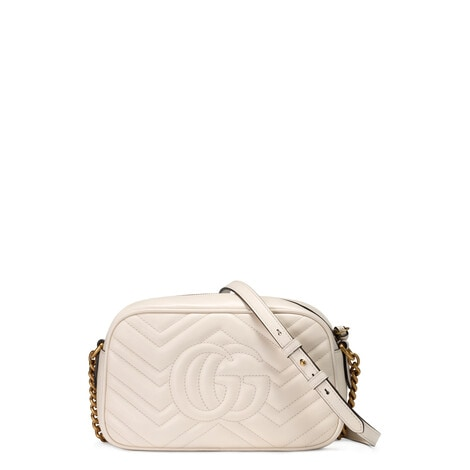Gucci: (78, 273, 361, 456), (173, 336, 281, 420)
